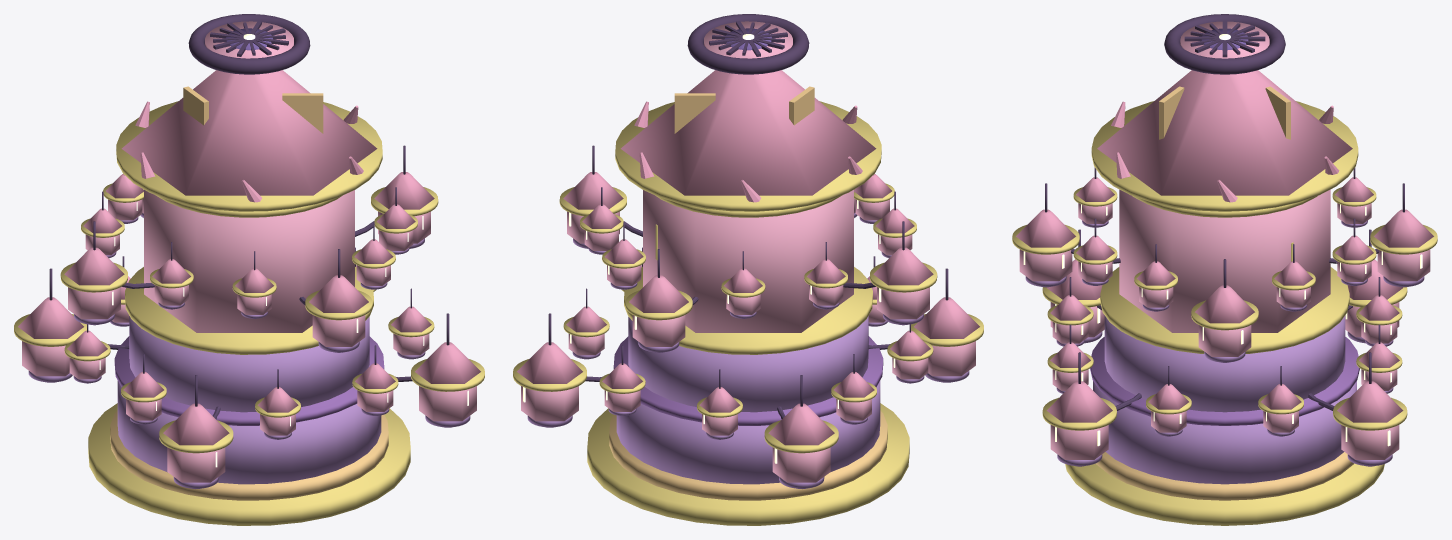
Rendered from poson06(02).glb.
The picture shows the model from 3 angles, left to right: view 1: azimuth 30°, elevation 25°; view 2: azimuth 150°, elevation 25°; view 3: azimuth 270°, elevation 25°; orthographic projection.
Parts seen in each view (by area): view 1: main_roof, tower_body, base_upper_body, base_step1, base_lower_band, roof_rim, base_step2, base_top_ring, rose_outer, sep_ring1, lL2_roof, lL3_roof (+40 smaller); view 2: main_roof, tower_body, base_upper_body, base_step1, base_lower_band, roof_rim, base_step2, base_top_ring, rose_outer, sep_ring1, lL1_roof, lL0_roof (+40 smaller); view 3: main_roof, tower_body, base_lower_band, base_upper_body, base_step1, base_top_ring, roof_rim, base_step2, sep_ring1, rose_outer, lL0_roof, lL3_roof (+43 smaller).
Boxes of the visible parts, x1,y1,x2,y2 form: main_roof: (121,70,377,195); tower_body: (144,190,354,332); base_upper_body: (129,316,369,412); base_step1: (88,403,410,525); base_lower_band: (117,381,381,484); roof_rim: (116,101,382,211); base_step2: (110,410,388,500); base_top_ring: (125,266,373,354); rose_outer: (188,14,310,74); sep_ring1: (114,336,384,425); lL2_roof: (163,403,229,445); lL3_roof: (415,342,480,383); main_roof: (620,70,876,195); tower_body: (643,190,853,332); base_upper_body: (628,316,868,412); base_step1: (587,403,909,525); base_lower_band: (616,381,880,484); roof_rim: (615,101,881,211); base_step2: (609,410,887,500); base_top_ring: (624,266,872,354); rose_outer: (687,14,809,74); sep_ring1: (613,336,883,425); lL1_roof: (768,403,834,445); lL0_roof: (517,342,582,383); main_roof: (1097,70,1352,195); tower_body: (1119,189,1330,332); base_lower_band: (1093,381,1356,484); base_upper_body: (1104,315,1345,412); base_step1: (1065,463,1384,525); base_top_ring: (1100,267,1349,353); roof_rim: (1091,101,1358,211); base_step2: (1096,452,1353,500); sep_ring1: (1090,337,1359,425); rose_outer: (1164,14,1285,74); lL0_roof: (1337,381,1403,422); lL3_roof: (1046,381,1112,422).
Bounding box in the file's own units: 2.9 × 3.17 × 2.9.
